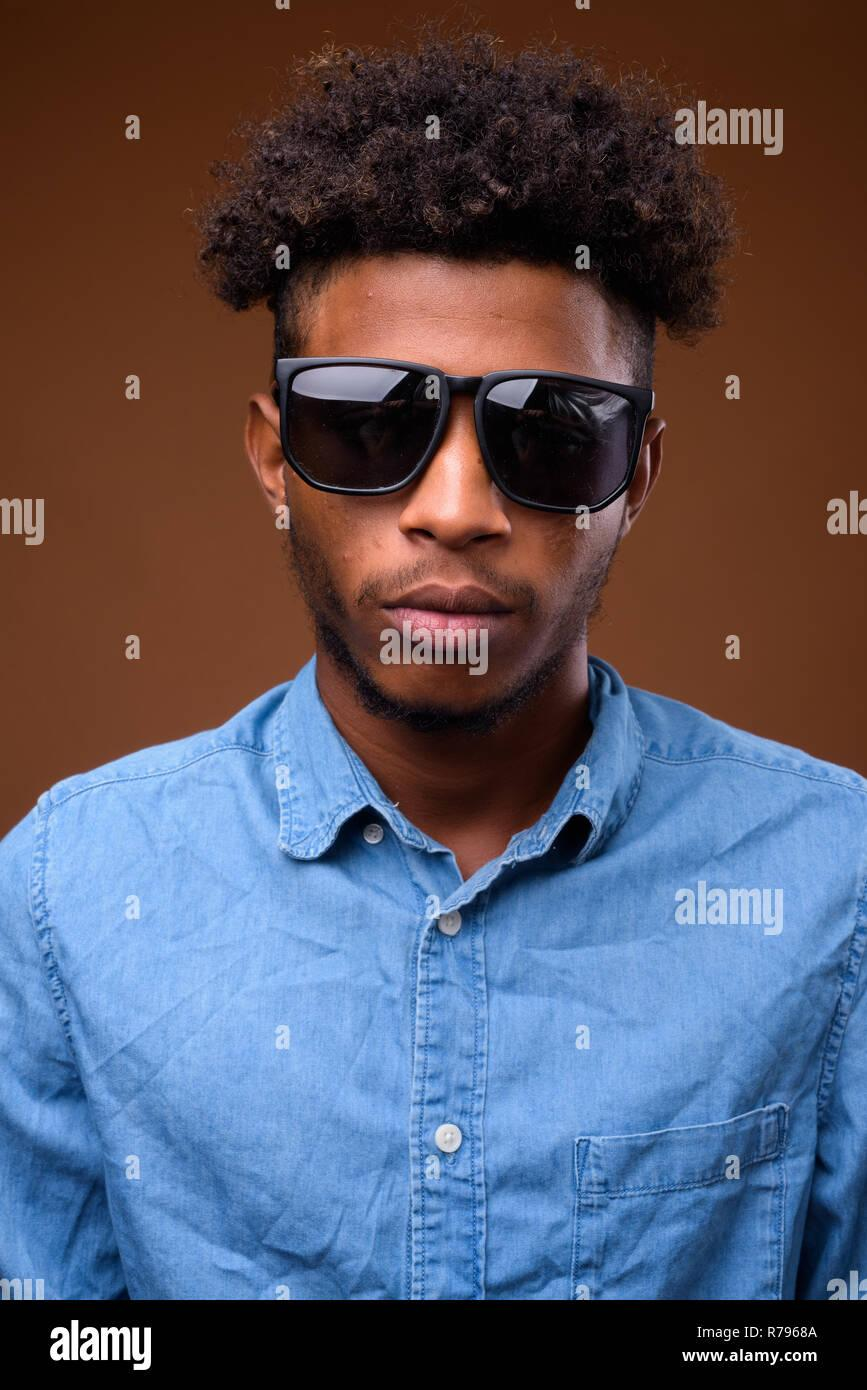sunglasses: (260, 323, 667, 540)
